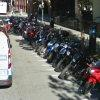Motorcycle: (39, 29, 100, 88)
